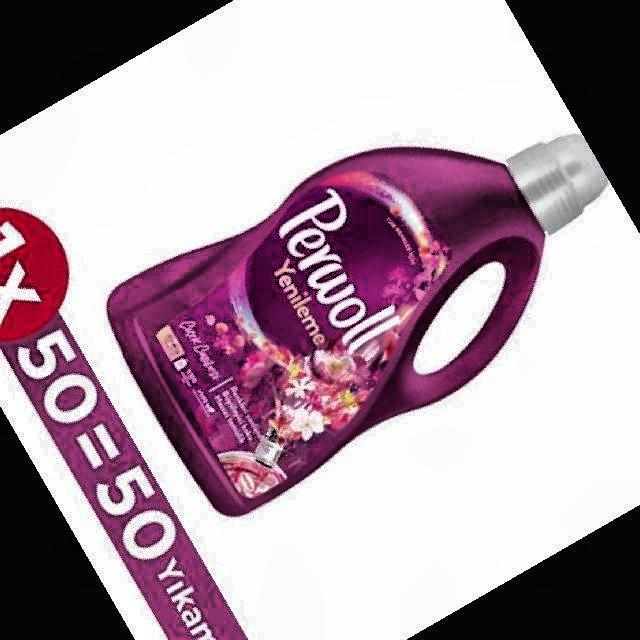plastic: (108, 135, 606, 515)
